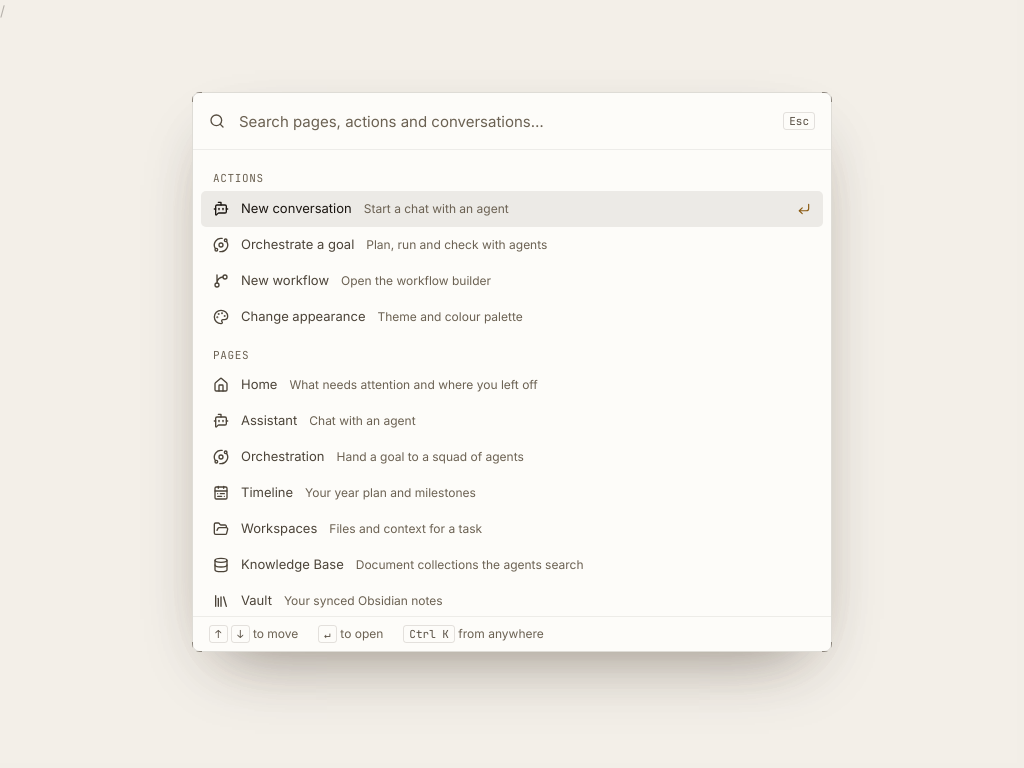
it: CommandPalette › says when nothing matches
The image size is (1024, 768).
In the dropdown: (504, 121) [237,105,771,137], type "zzzz"
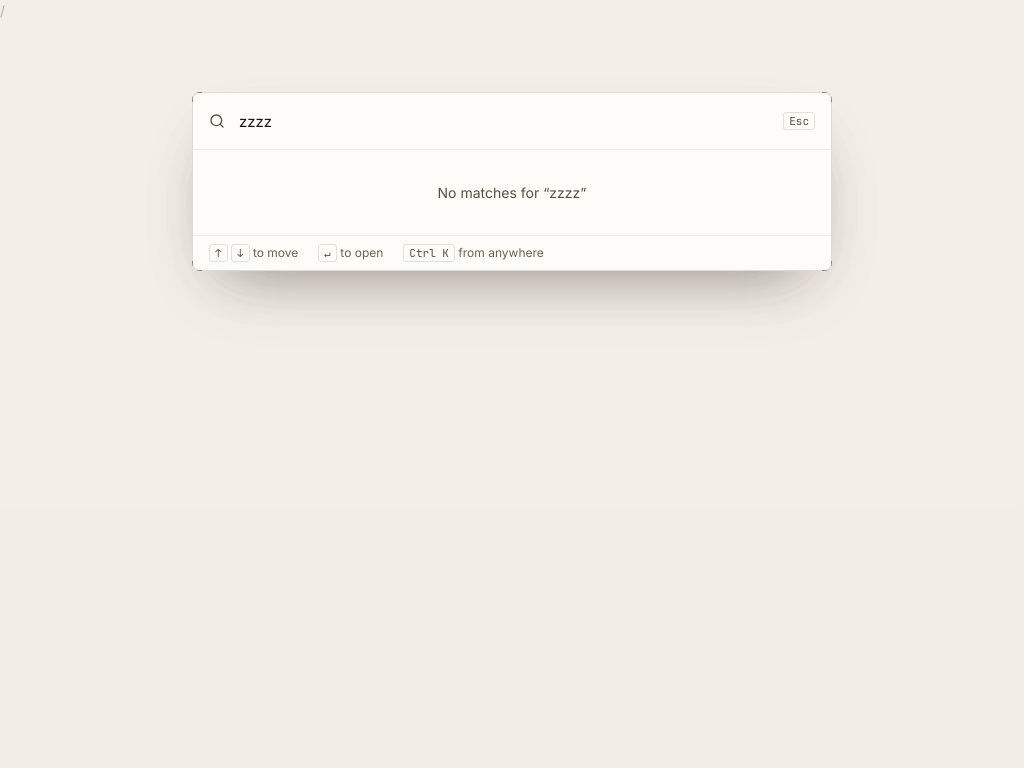
Expected: the text "No matches for “zzzz”" is shown, [438,184,586,201]
